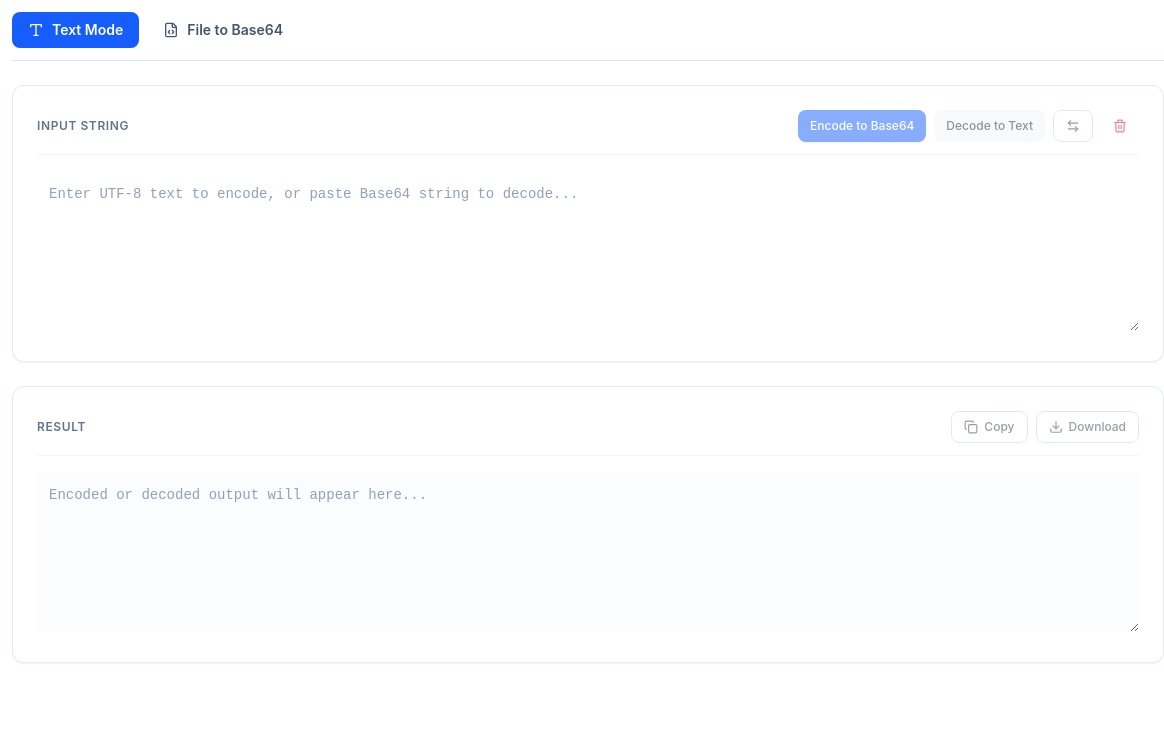
Test: TEXT & DEVELOPER TOOLS (8/8) › Base64 Tool › normal: encodes and decodes plain text safely
The image size is (1164, 732).
Replace the text in the text box named "base64 text input" with "Hello World" at (588, 251), box [37,171,1139,331]
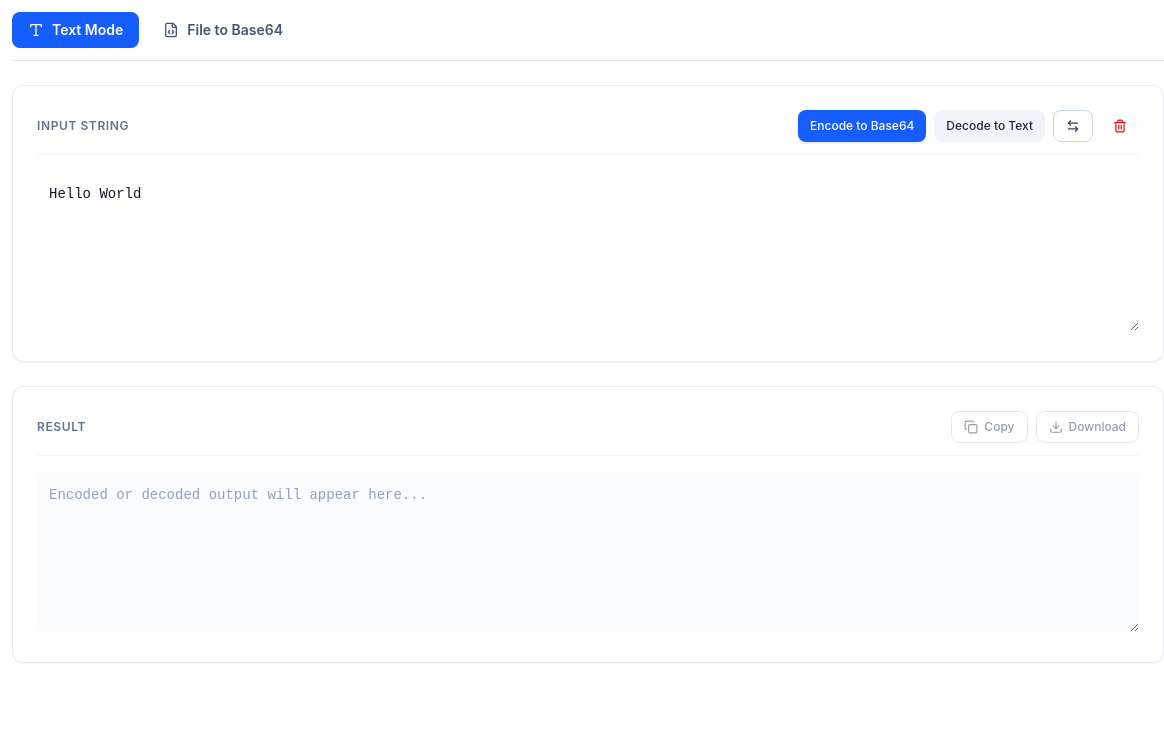
Click the button "Encode to Base64".
click(862, 126)  # box [798,110,926,142]
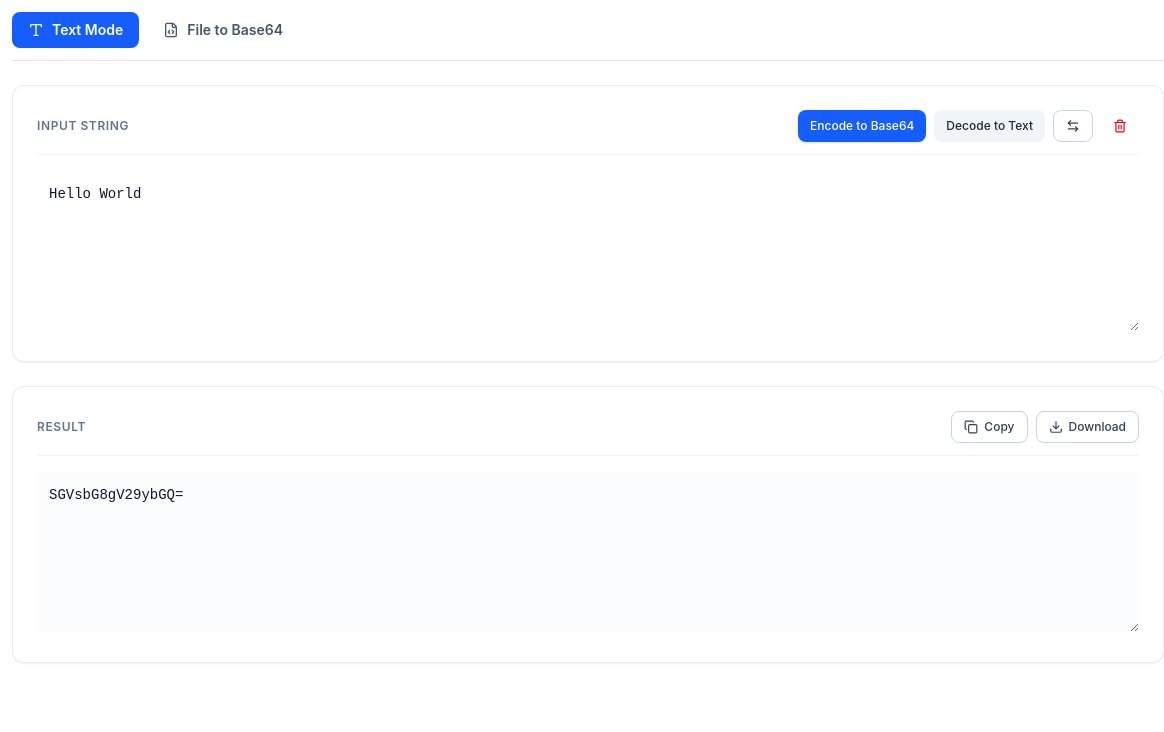
expect the text box named "base64 text output" holds "SGVsbG8gV29ybGQ=": met, box [37,472,1139,632]
Decode back
Replace the text in the text box named "base64 text input" with "SGVsbG8gV29ybGQ=" at (588, 251), box [37,171,1139,331]
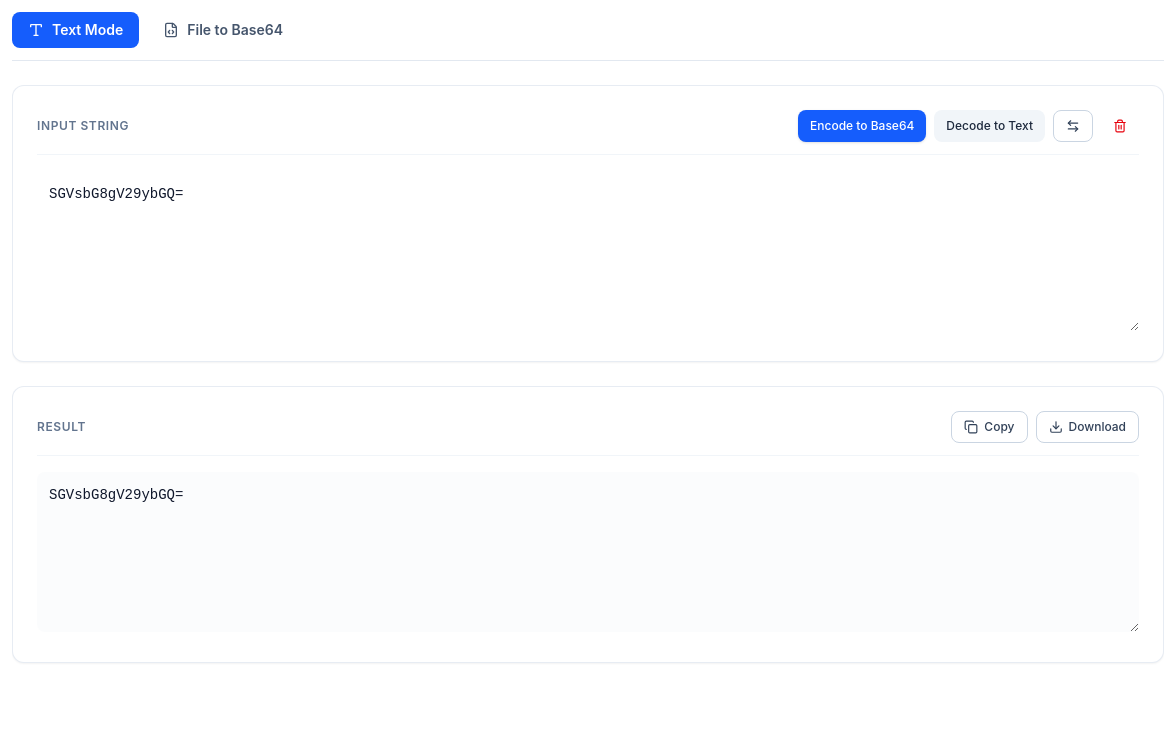
Click the button "Decode to Text".
click(990, 126)  # box [934,110,1045,142]
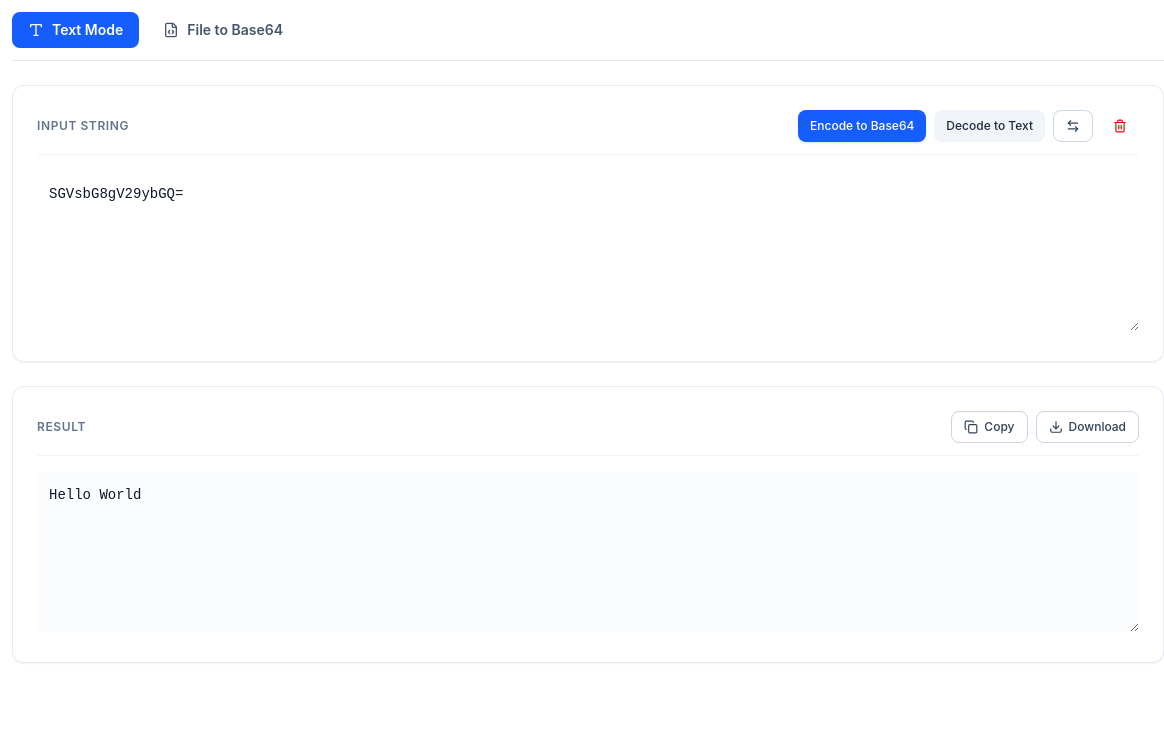
expect the text box named "base64 text output" holds "Hello World": met, box [37,472,1139,632]
